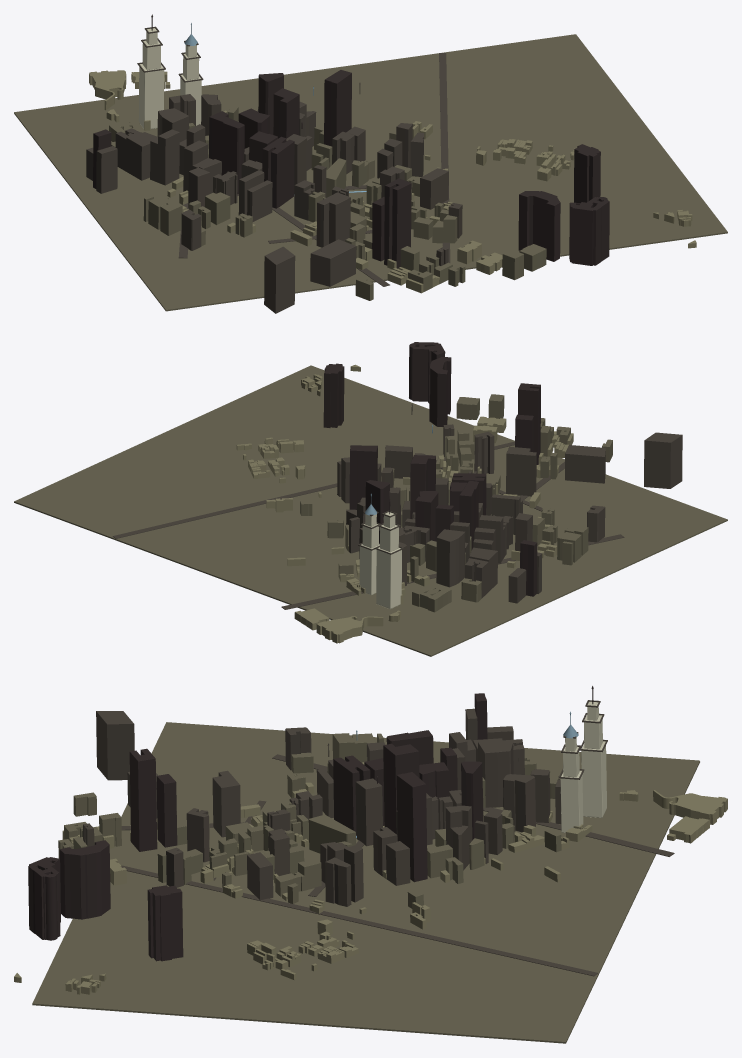
File: period-financial-district.glb
3 views of the same model, one above another, from view 1: azimuth 30°, elevation 25°; view 2: azimuth 150°, elevation 25°; view 3: azimuth 270°, elevation 25° (orthographic). The views are drawn at different scales.
Visible parts, largest first — view 1: fidi_ground_plane, nyc_footprint_390889_0_1933, nyc_footprint_373634_0_1914, nyc_footprint_401853_0_1913, Empire_State_Building_1931_silhouette, nyc_footprint_153416_0_1930, nyc_footprint_201736_0_1915, nyc_footprint_662920_0_1930, nyc_footprint_671705_0_1932, nyc_footprint_460339_0_1935, nyc_footprint_553851_0_1916, nyc_footprint_529760_0_1912 (+31 smaller); view 2: fidi_ground_plane, Empire_State_Building_1931_silhouette, nyc_footprint_662920_0_1930, nyc_footprint_119253_0_1885, nyc_footprint_390889_0_1933, nyc_footprint_460339_0_1935, nyc_footprint_373634_0_1914, nyc_footprint_553851_0_1916, nyc_footprint_671705_0_1932, nyc_footprint_529760_0_1912, Chrysler_Building_1930_silhouette, nyc_footprint_996023_0_1900 (+22 smaller); view 3: fidi_ground_plane, nyc_footprint_373634_0_1914, nyc_footprint_671705_0_1932, nyc_footprint_401853_0_1913, Empire_State_Building_1931_silhouette, nyc_footprint_529760_0_1912, nyc_footprint_390889_0_1933, nyc_footprint_662920_0_1930, water_street_period_road, nyc_footprint_201736_0_1915, nyc_footprint_77845_0_1930, nyc_footprint_119253_0_1885 (+29 smaller).
Part boxes in pixels (x1,y1,x2,y2): fidi_ground_plane: [14, 34, 727, 311]; nyc_footprint_390889_0_1933: [569, 197, 609, 265]; nyc_footprint_373634_0_1914: [518, 191, 560, 261]; nyc_footprint_401853_0_1913: [384, 178, 411, 268]; Empire_State_Building_1931_silhouette: [138, 26, 165, 128]; nyc_footprint_153416_0_1930: [209, 113, 244, 194]; nyc_footprint_201736_0_1915: [262, 136, 294, 208]; nyc_footprint_662920_0_1930: [264, 246, 295, 313]; nyc_footprint_671705_0_1932: [324, 70, 351, 146]; nyc_footprint_460339_0_1935: [310, 239, 356, 286]; nyc_footprint_553851_0_1916: [316, 192, 350, 247]; nyc_footprint_529760_0_1912: [574, 144, 600, 202]; fidi_ground_plane: [14, 365, 727, 656]; Empire_State_Building_1931_silhouette: [375, 510, 403, 608]; nyc_footprint_662920_0_1930: [644, 432, 682, 488]; nyc_footprint_119253_0_1885: [436, 529, 465, 587]; nyc_footprint_390889_0_1933: [409, 342, 445, 403]; nyc_footprint_460339_0_1935: [565, 445, 605, 483]; nyc_footprint_373634_0_1914: [429, 357, 451, 427]; nyc_footprint_553851_0_1916: [506, 446, 536, 496]; nyc_footprint_671705_0_1932: [349, 445, 377, 509]; nyc_footprint_529760_0_1912: [323, 363, 344, 427]; Chrysler_Building_1930_silhouette: [359, 514, 379, 595]; nyc_footprint_996023_0_1900: [316, 616, 383, 643]; fidi_ground_plane: [32, 722, 699, 1043]; nyc_footprint_373634_0_1914: [59, 840, 110, 919]; nyc_footprint_671705_0_1932: [396, 772, 427, 882]; nyc_footprint_401853_0_1913: [129, 748, 157, 851]; Empire_State_Building_1931_silhouette: [579, 700, 606, 817]; nyc_footprint_529760_0_1912: [147, 885, 183, 961]; nyc_footprint_390889_0_1933: [28, 857, 60, 940]; nyc_footprint_662920_0_1930: [96, 711, 134, 780]; water_street_period_road: [121, 865, 597, 976]; nyc_footprint_201736_0_1915: [333, 755, 370, 835]; nyc_footprint_77845_0_1930: [383, 743, 419, 833]; nyc_footprint_119253_0_1885: [478, 741, 513, 807].
Bounding box in the file's own units: 70.7 × 13.83 × 65.55.
